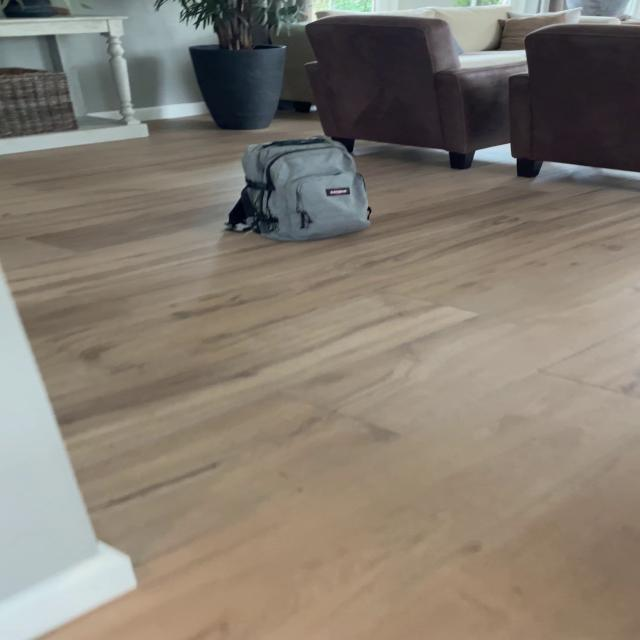backpack: (220, 131, 378, 246)
